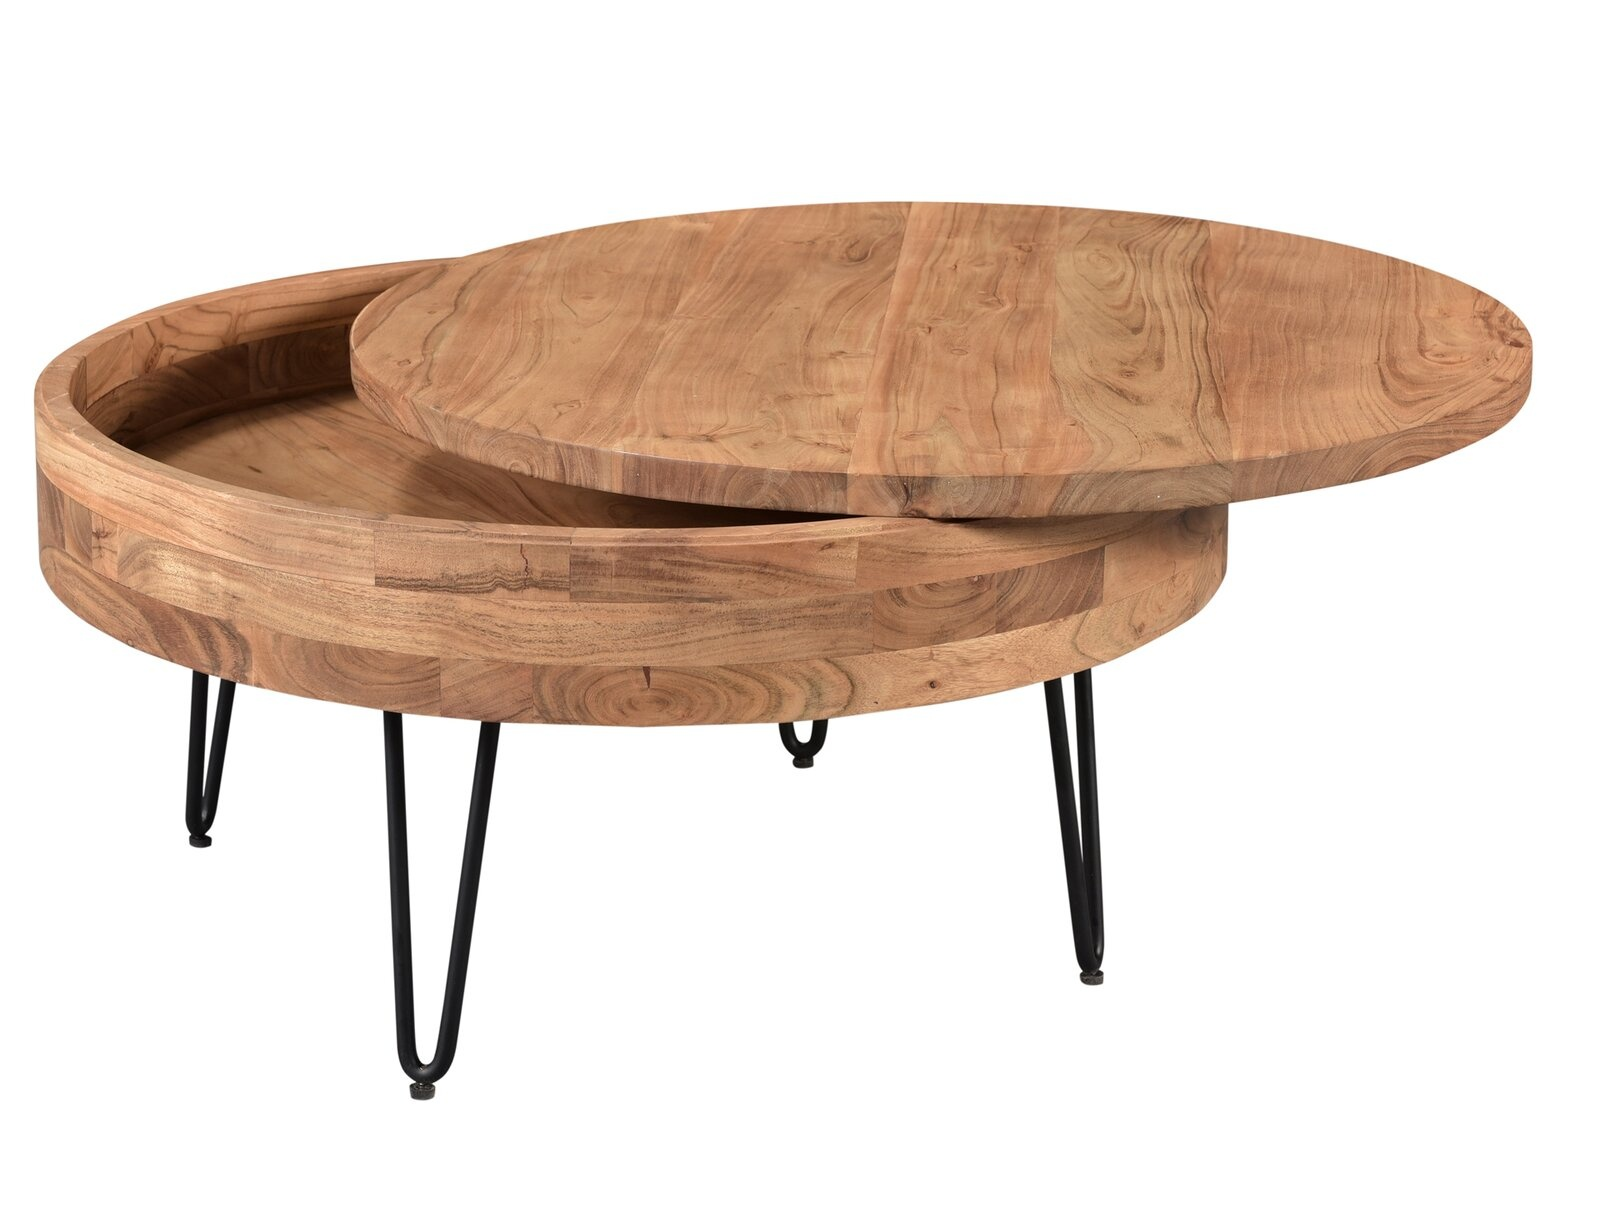obstacle: (36, 202, 1530, 1094)
